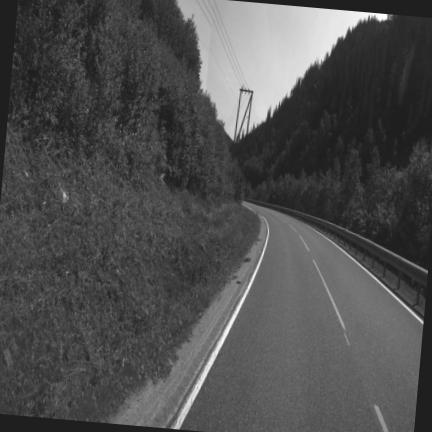Road: (181, 206, 422, 431)
